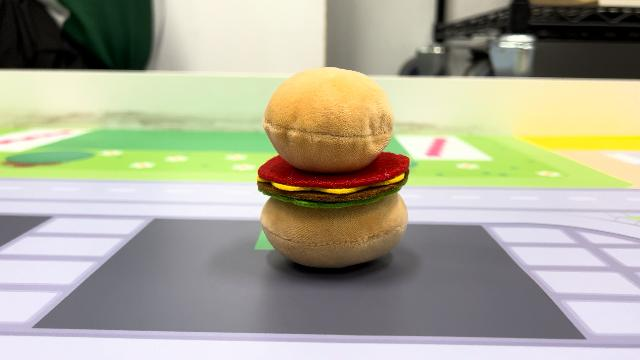burger: (252, 63, 414, 271)
